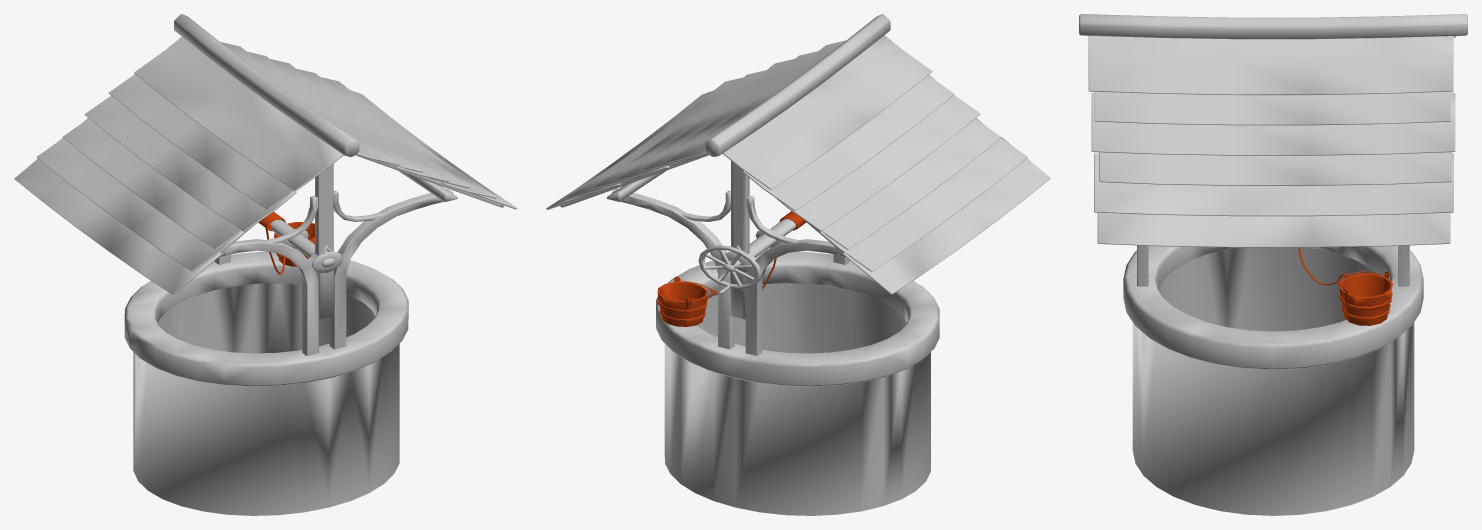
Rendered from pozoagua.obj.
3 views of the same model, side by side, from view 1: azimuth 30°, elevation 25°; view 2: azimuth 150°, elevation 25°; view 3: azimuth 270°, elevation 25° (orthographic). The views are drawn at different scales.
Visible parts, largest first — view 1: Well_Model; view 2: Well_Model; view 3: Well_Model.
Part boxes in pixels (left/top/right/bottom): Well_Model: left=14, top=14, right=517, bottom=515; Well_Model: left=546, top=14, right=1050, bottom=515; Well_Model: left=1079, top=14, right=1467, bottom=515.
Bounding box in the file's own units: 4.23 × 4.48 × 3.62.
